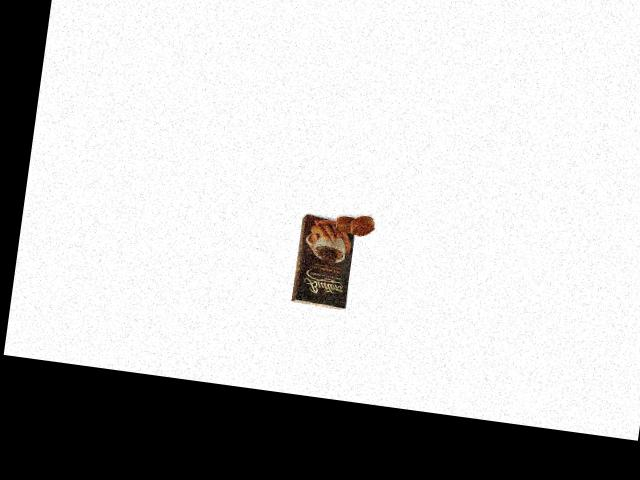chocolate: (287, 210, 365, 314)
